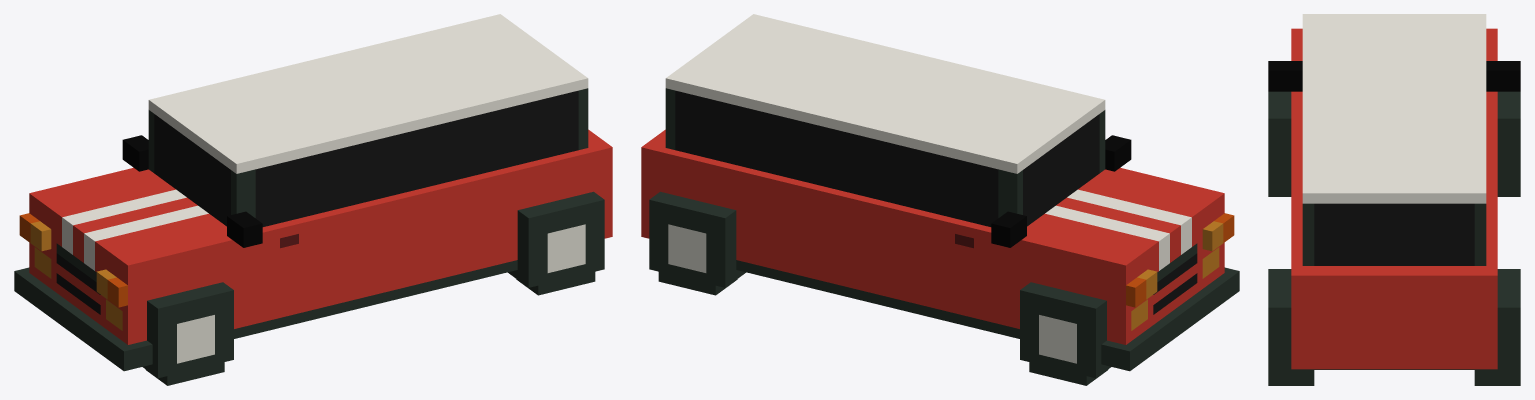
Rendered from car_red_len_3.glb.
3 views of the same model, side by side, from view 1: azimuth 30°, elevation 25°; view 2: azimuth 150°, elevation 25°; view 3: azimuth 270°, elevation 25° (orthographic). The views are drawn at different scales.
Visible parts, largest first — view 1: _0; view 2: _0; view 3: _0.
Boxes of the visible parts, <box> form: _0: <box>14,14,612,385</box>; _0: <box>641,14,1239,385</box>; _0: <box>1268,14,1520,385</box>.
Size of the model in its own units: 0.078 by 0.0285 by 0.033.
